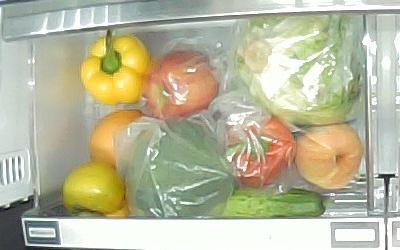apple_vinyl: (143, 51, 219, 119)
broccoli_vinyl: (126, 121, 235, 219)
cucumber: (222, 190, 329, 218)
lettuce_vinyl: (233, 15, 360, 126)
paprika: (80, 30, 152, 105)
paprika_vinyl: (222, 115, 297, 188)
peach: (294, 123, 363, 189)
persimmon: (63, 163, 130, 218)
